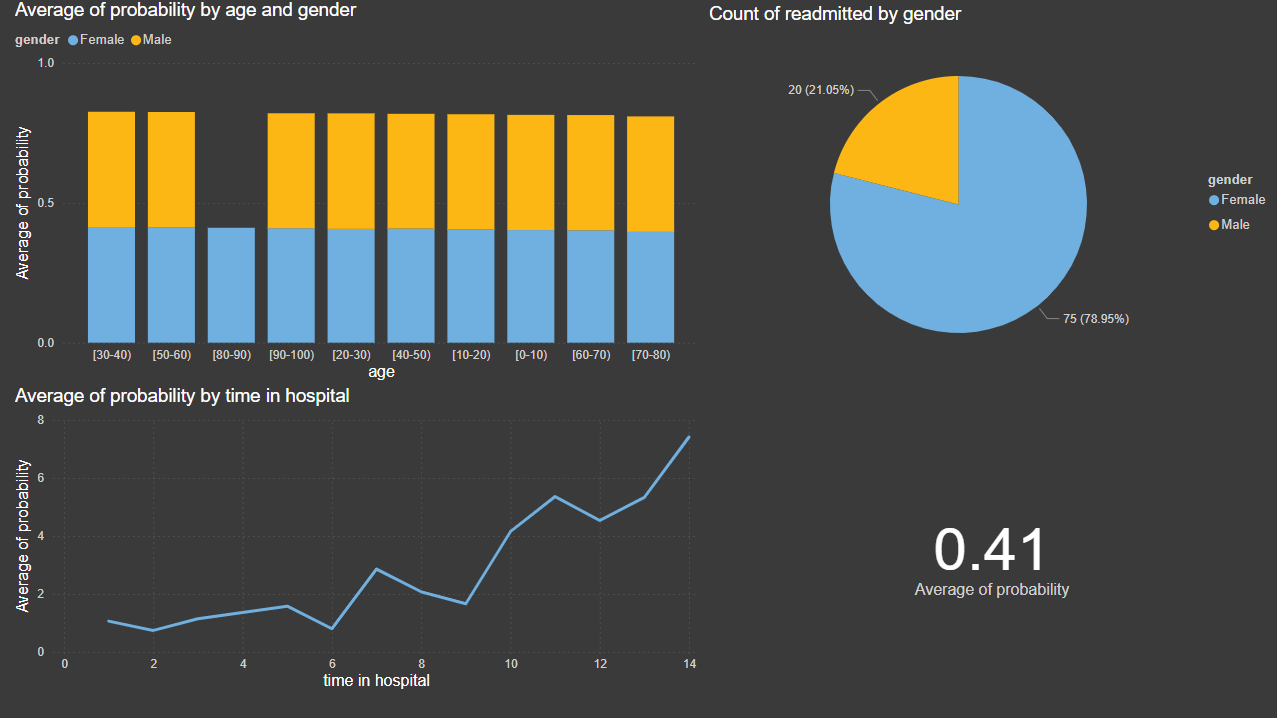

Layout of this report page (visuals, bound fields, positions):
{"tool":"powerbi","page":{"name":"Page 1","canvas":[1280,720],"ordinal":0},"visuals":[{"type":"columnChart","fields":{"Category":["livepredictions.age"],"Y":["Avg(livepredictions.probability)"],"Series":["livepredictions.gender"]},"box":[9.7,0,694.5,386.1],"z":0},{"type":"lineChart","fields":{"Category":["livepredictions.time_in_hospital"],"Y":["Sum(livepredictions.probability)"]},"box":[9.6,386.4,694.2,308.7],"z":1000},{"type":"card","fields":{"Values":["Avg(livepredictions.probability)"]},"box":[703.8,386.4,576.2,333.7],"z":2000},{"type":"pieChart","fields":{"Category":["livepredictions.gender"],"Y":["CountNonNull(livepredictions.readmitted)"]},"box":[703.8,3.8,576.2,382.6],"z":3000}]}

Visuals, with their boxes in screenshot pixels (x1, y1, x2, y2), scaled from the page's 1280x720 canvas onto the 1277x718 screenshot:
columnChart - livepredictions.age x Avg(livepredictions.probability): [left=10, top=0, right=703, bottom=385]
lineChart - livepredictions.time_in_hospital x Sum(livepredictions.probability): [left=10, top=385, right=702, bottom=693]
card - Avg(livepredictions.probability): [left=702, top=385, right=1276, bottom=717]
pieChart - livepredictions.gender x CountNonNull(livepredictions.readmitted): [left=702, top=4, right=1276, bottom=385]
